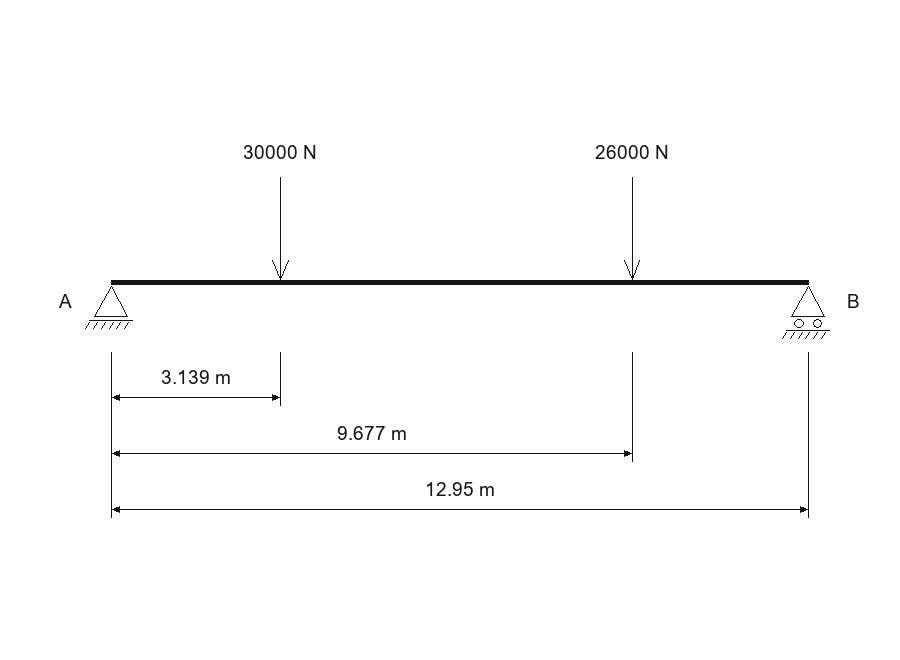pin_support: (85, 286, 133, 329)
point_load: (272, 177, 289, 280), (624, 177, 640, 280)
roller_support: (782, 286, 830, 339)
